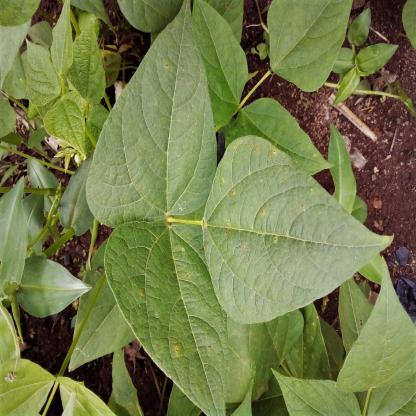Beans_Rust: (201, 137, 393, 324), (81, 0, 215, 224), (104, 222, 230, 416)
